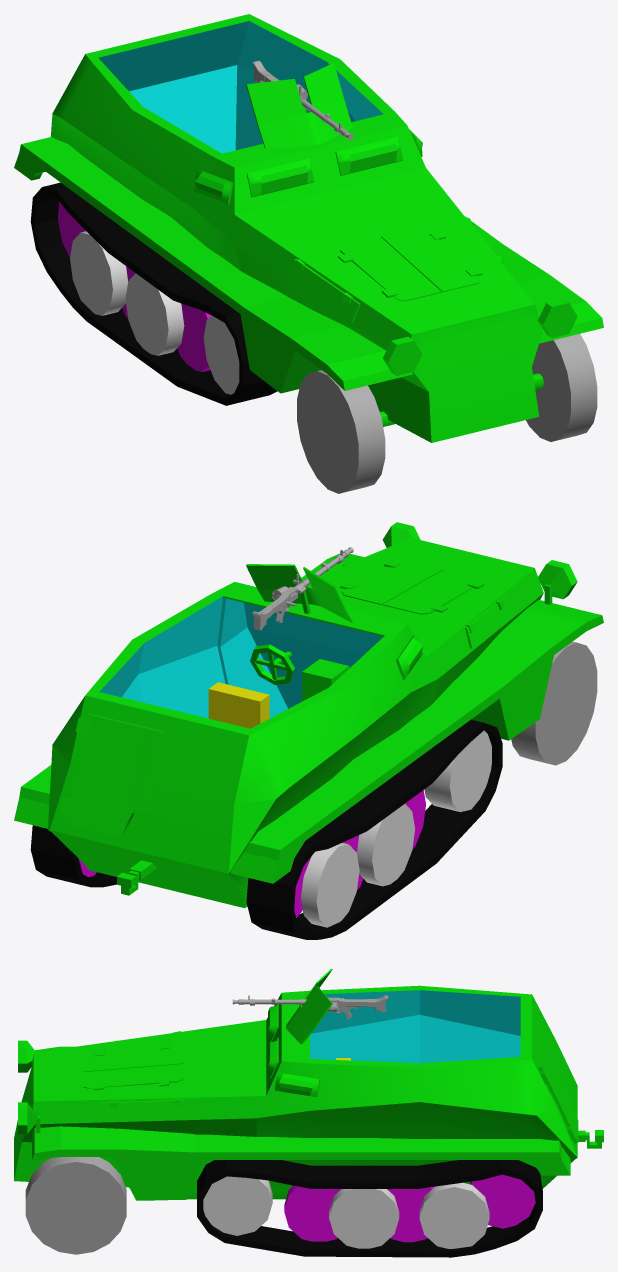
File: SdKfz_250.fbx
3 renders of one model, top to bottom at view 1: azimuth 30°, elevation 25°; view 2: azimuth 150°, elevation 25°; view 3: azimuth 270°, elevation 25°, orthographic. The views are drawn at different scales.
Visible parts, largest first — view 1: SdKfz250_Hull3, Esteira_D, SdKfz_250_Right_Main_Wheel, SdKfz_251_Left_Main_Wheel, SdKfz_250_Right_Wheel5, SdKfz_250_Right_Wheel3, SdKfz_250_Right_Wheel, SdKfz_250_Right_Wheel2, SdKfz_250_Right_Wheel6; view 2: SdKfz250_Hull3, Esteira_D, SdKfz_250_Right_Main_Wheel, SdKfz_250_Right_Wheel5, SdKfz_250_Right_Wheel3, SdKfz_250_Right_Wheel, Esteira_E, MG34:MG34, SdKfz_250_Right_Wheel2; view 3: SdKfz250_Hull3, Esteira_E, SdKfz_251_Left_Main_Wheel, SdKfz_251_Left_Wheel5, SdKfz_251_Left_Wheel3, SdKfz_251_Left_Wheel, SdKfz_251_Left_Wheel2, SdKfz_251_Left_Wheel6, SdKfz_251_Left_Wheel4, MG34:MG34.
Boxes of the visible parts, bbox=[...] form: SdKfz250_Hull3: bbox=[14, 14, 603, 442]; Esteira_D: bbox=[30, 182, 277, 405]; SdKfz_250_Right_Main_Wheel: bbox=[297, 370, 385, 493]; SdKfz_251_Left_Main_Wheel: bbox=[526, 334, 597, 441]; SdKfz_250_Right_Wheel5: bbox=[70, 231, 127, 315]; SdKfz_250_Right_Wheel3: bbox=[125, 273, 184, 355]; SdKfz_250_Right_Wheel: bbox=[203, 315, 239, 394]; SdKfz_250_Right_Wheel2: bbox=[177, 303, 211, 371]; SdKfz_250_Right_Wheel6: bbox=[58, 201, 85, 257]; SdKfz250_Hull3: bbox=[14, 522, 603, 908]; Esteira_D: bbox=[246, 719, 502, 939]; SdKfz_250_Right_Main_Wheel: bbox=[511, 641, 597, 765]; SdKfz_250_Right_Wheel5: bbox=[301, 842, 359, 927]; SdKfz_250_Right_Wheel3: bbox=[357, 804, 414, 886]; SdKfz_250_Right_Wheel: bbox=[424, 730, 491, 811]; Esteira_E: bbox=[30, 825, 116, 887]; MG34:MG34: bbox=[265, 547, 353, 622]; SdKfz_250_Right_Wheel2: bbox=[405, 790, 425, 849]; SdKfz250_Hull3: bbox=[14, 968, 603, 1200]; Esteira_E: bbox=[197, 1160, 542, 1257]; SdKfz_251_Left_Main_Wheel: bbox=[25, 1157, 126, 1254]; SdKfz_251_Left_Wheel5: bbox=[419, 1182, 489, 1248]; SdKfz_251_Left_Wheel3: bbox=[329, 1189, 399, 1248]; SdKfz_251_Left_Wheel: bbox=[203, 1176, 272, 1235]; SdKfz_251_Left_Wheel2: bbox=[284, 1185, 340, 1241]; SdKfz_251_Left_Wheel6: bbox=[470, 1174, 535, 1228]; SdKfz_251_Left_Wheel4: bbox=[387, 1186, 434, 1242]; MG34:MG34: bbox=[232, 995, 367, 1019].
Bounding box in the file's own units: 192 × 194 × 465.
